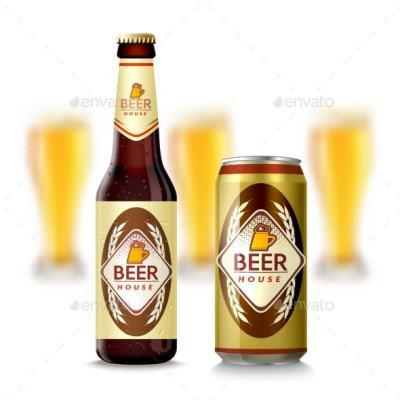beer: (97, 31, 311, 365)
